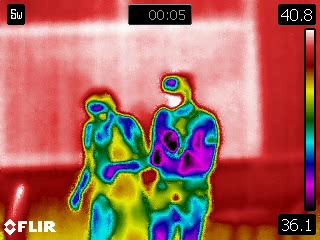human: (139, 70, 224, 240), (65, 86, 155, 240)
